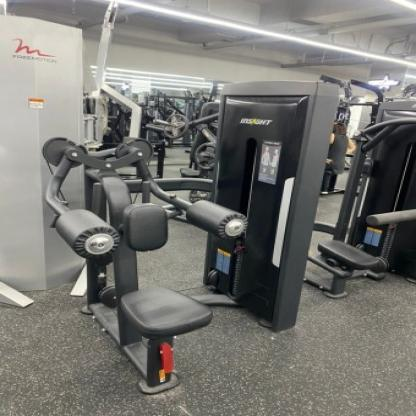lateral raises machine: (38, 131, 250, 399)
